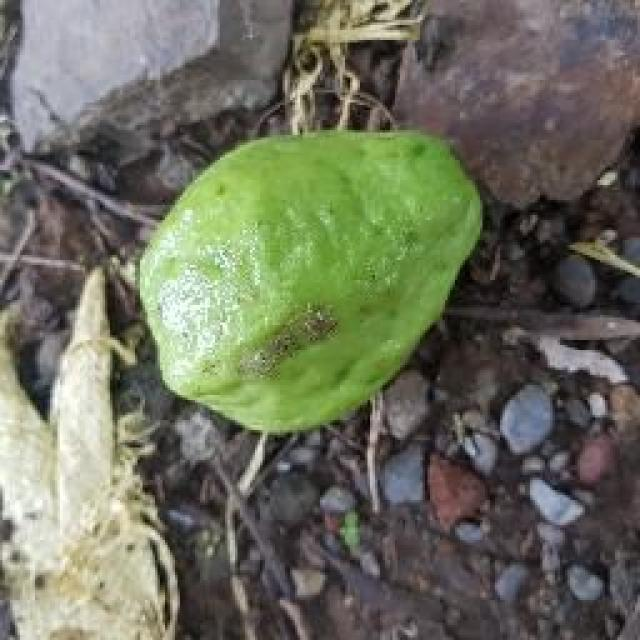Good_Guava: (138, 130, 485, 435)
